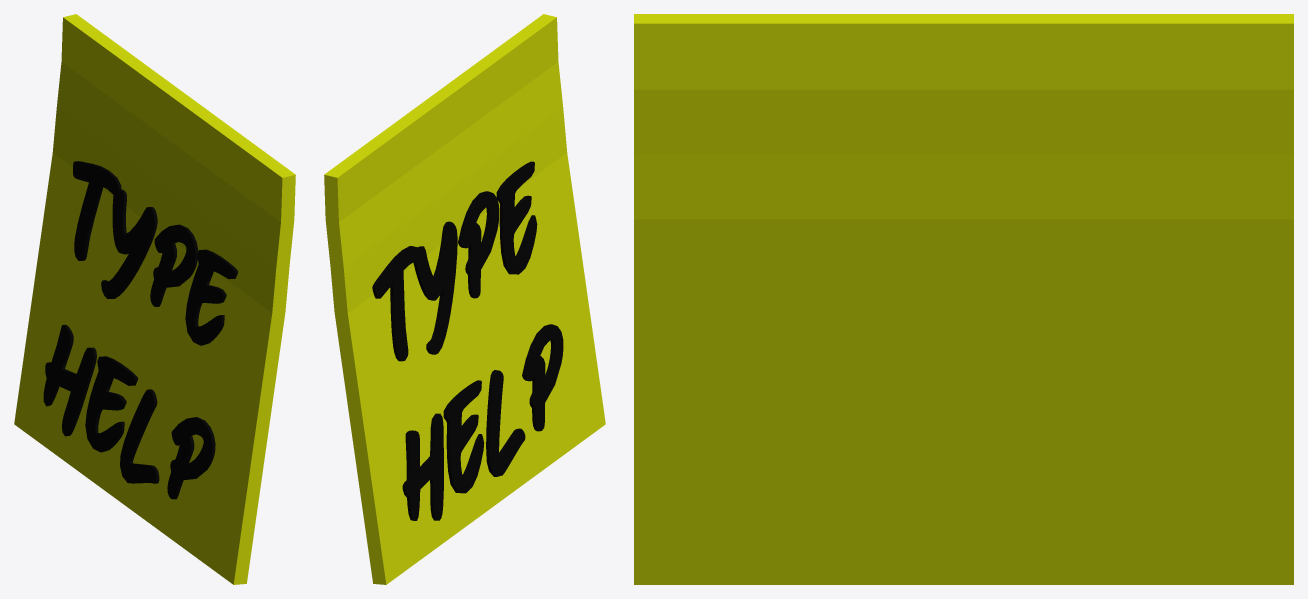
Rendered from StickyNote.fbx.
The picture shows the model from 3 angles, left to right: view 1: azimuth 30°, elevation 25°; view 2: azimuth 150°, elevation 25°; view 3: azimuth 270°, elevation 25°; orthographic projection. The views are drawn at different scales.
Parts seen in each view (by area): view 1: Cube.049, Text.004; view 2: Cube.049, Text.004; view 3: Cube.049.
Part boxes in pixels (left/top/right/bottom): Cube.049: left=14, top=14, right=295, bottom=584; Text.004: left=43, top=161, right=238, bottom=499; Cube.049: left=324, top=14, right=605, bottom=584; Text.004: left=372, top=161, right=563, bottom=520; Cube.049: left=634, top=14, right=1293, bottom=584.
Bounding box in the file's own units: 1.95 × 11.64 × 11.66.
